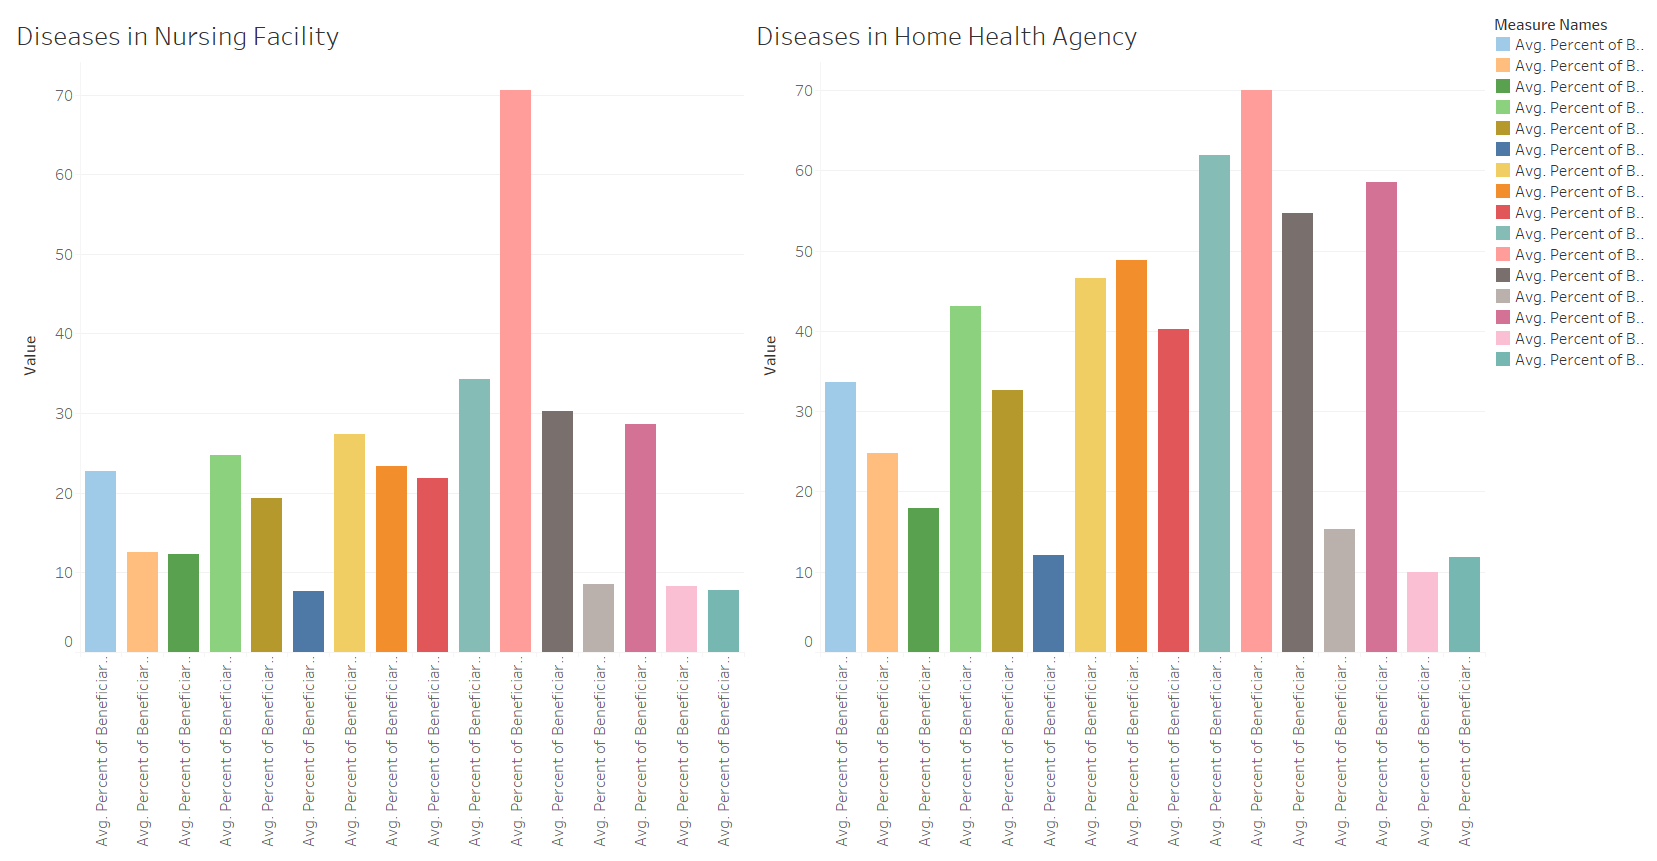

The page's visual inventory and layout, read from the dashboard file:
{"tool":"tableau","page":{"name":"Compare_2","canvas":[1000,1000],"units":"permille","ordinal":1},"visuals":[{"type":"worksheet","title":"nur4","mark":"Automatic","box":[5.4,9.3,440.1,981.4]},{"type":"worksheet","title":"hha2","mark":"Automatic","box":[445.6,9.3,440.2,981.4]},{"type":"legend","title":"nur4","param":"[federated.12nd8gl0smvno8155ha070g477ii].[:Measure Names]","box":[885.7,9.3,108.8,425.1]}]}

Visuals, with their boxes on the dashboard's canvas, which has no fixed pixel size, in thousandths of its width and height (x1, y1, x2, y2). These are canvas units, not pixel positions in the 1657x861 screenshot, which may show the page scaled, cropped or inside an application window:
"nur4" worksheet: x1=5, y1=9, x2=446, y2=991
"hha2" worksheet: x1=446, y1=9, x2=886, y2=991
"nur4" legend: x1=886, y1=9, x2=994, y2=434
